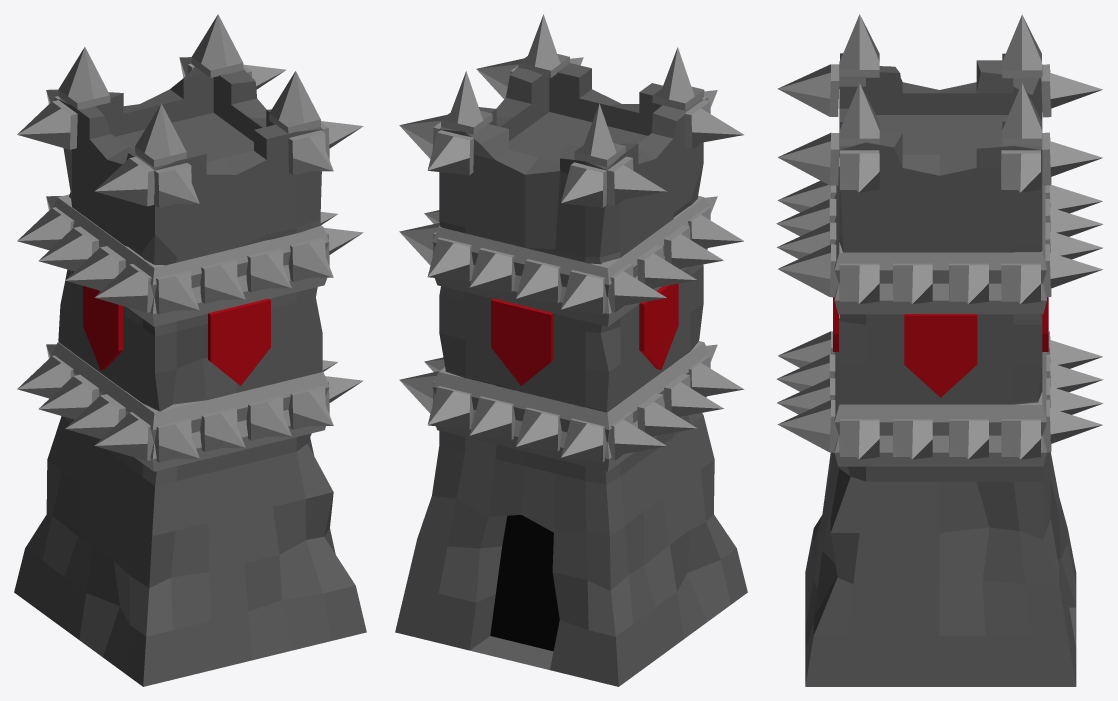
File: tower lvl6.fbx
3 views of the same model, side by side, from view 1: azimuth 30°, elevation 25°; view 2: azimuth 150°, elevation 25°; view 3: azimuth 270°, elevation 25° (orthographic). The views are drawn at different scales.
Visible parts, largest first — view 1: Cube.029; view 2: Cube.029; view 3: Cube.029.
Boxes of the visible parts, x1,y1,x2,y2 form: Cube.029: (14, 14, 366, 686); Cube.029: (395, 14, 747, 686); Cube.029: (776, 14, 1103, 686).
Bounding box in the file's own units: 6.81 × 13.31 × 6.73.
